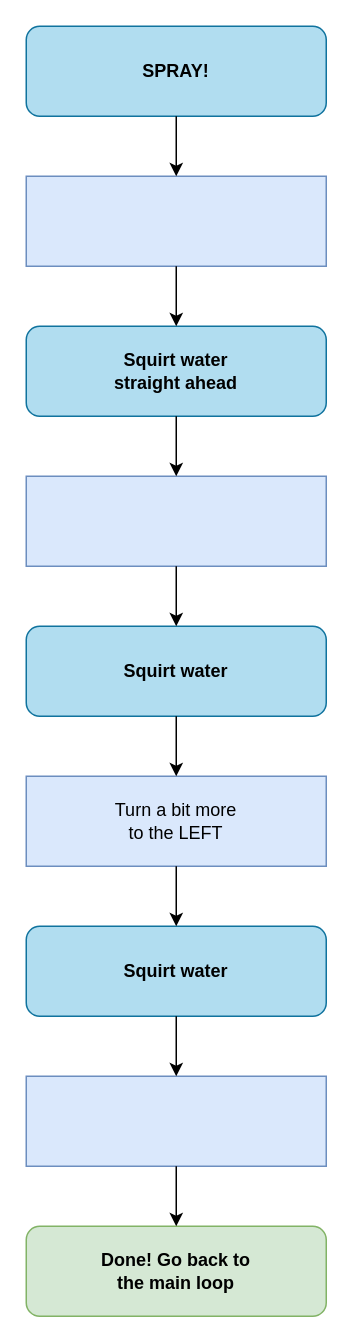
The diagram is 353 pixels wide and 1343 high, and some of its shapes have lost their labels. The shapes that lost their labels are listed below. From the top down, each one's centre as x and y in pixels, then its label:
the point at 175,220: Spray light on
the point at 175,520: Turn a little to the RIGHT
the point at 175,1120: Turn back to the middle
